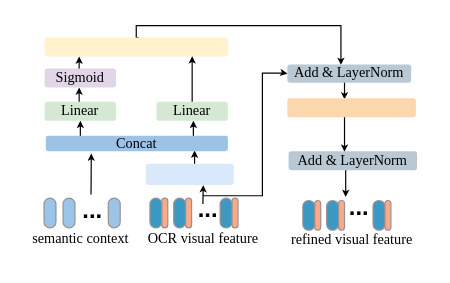
This 450x283 diagram has some shape labels left out. Here are the shapes that lost their labels. From the top down, the box of each, then its label:
(44, 37, 227, 56): Multiply
(287, 98, 415, 117): Feed Forward
(145, 163, 233, 184): Multi-head SA
